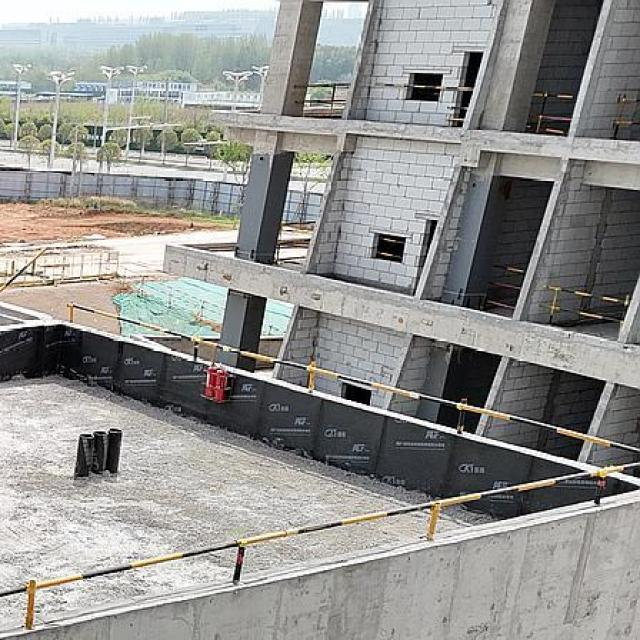edge_guardrail: (0, 299, 640, 631), (538, 284, 629, 326), (384, 83, 472, 121), (294, 81, 351, 116), (274, 220, 317, 266), (486, 262, 526, 311), (528, 93, 573, 134), (611, 98, 640, 138), (376, 237, 404, 260)
